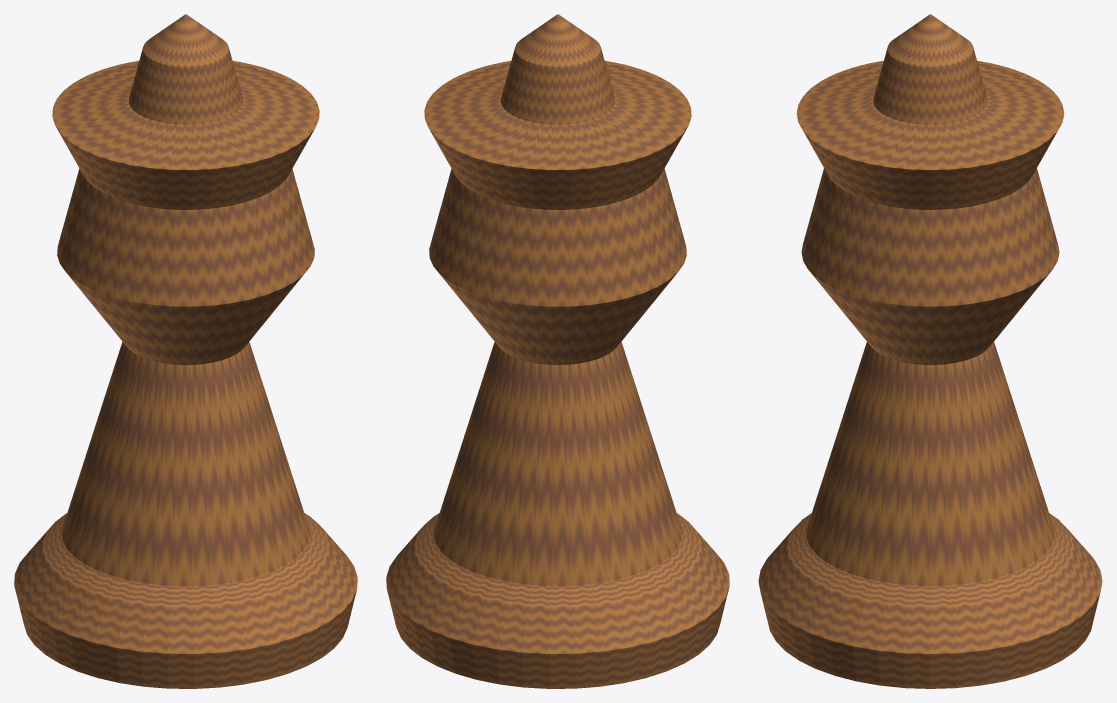
Rendered from queen_ivory.obj.
3 views of the same model, side by side, from view 1: azimuth 30°, elevation 25°; view 2: azimuth 150°, elevation 25°; view 3: azimuth 270°, elevation 25° (orthographic).
Size of the model in its own units: 0.72 by 1.4 by 0.72.
Materials: 1 (1 with a texture image).
